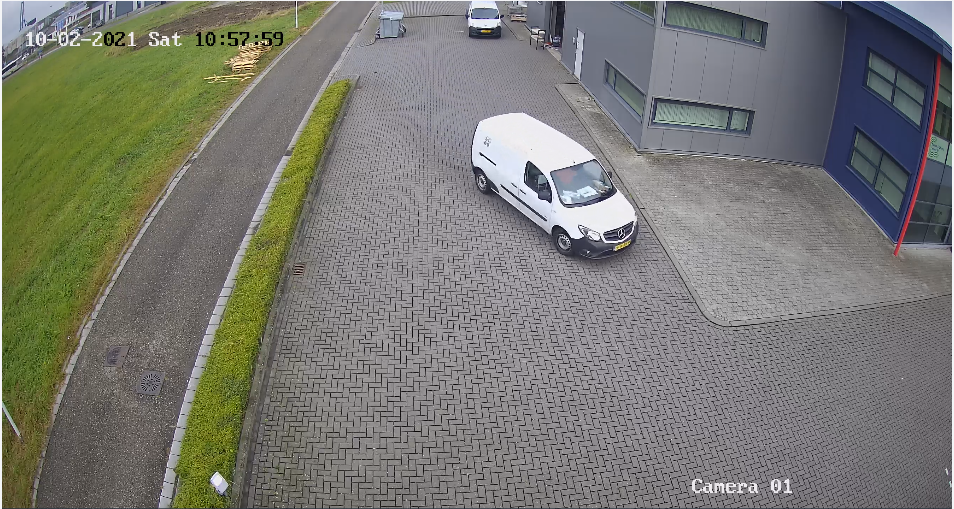werkbus: (457, 105, 647, 267), (460, 1, 512, 41)
